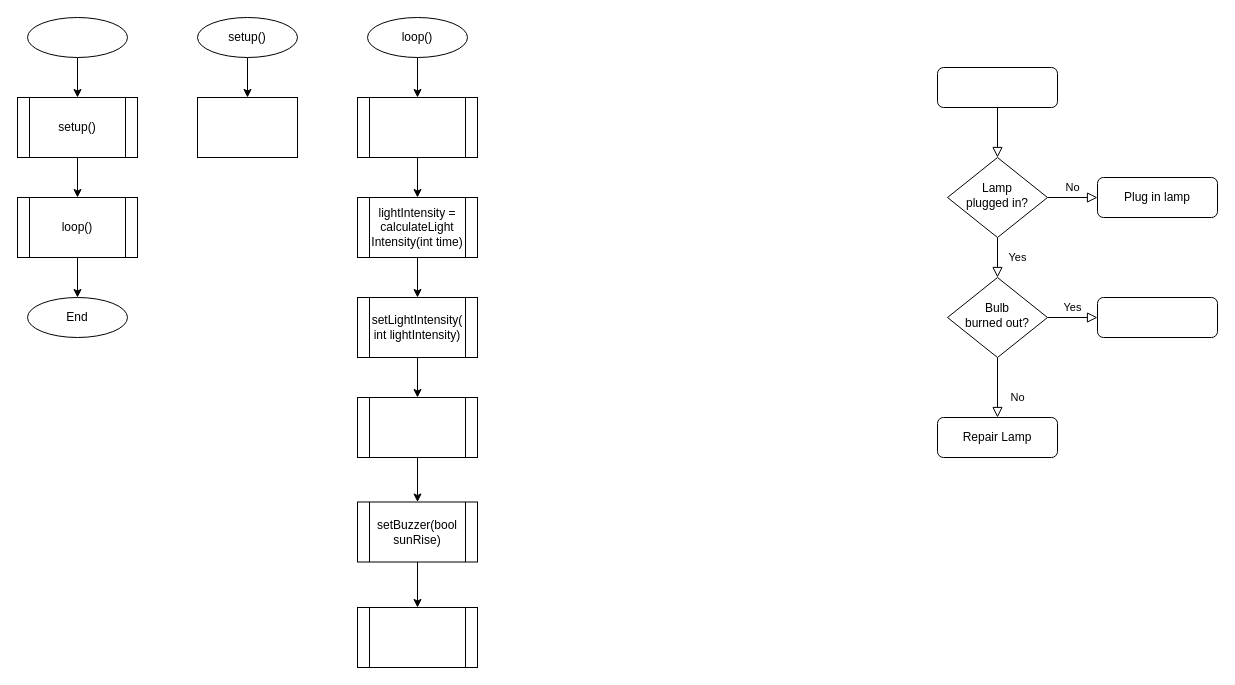
Image size: 1235x685. Some labels were removed from this diagram. Each missing label, with the centre of its shape:
"Lamp doesn't work" goes at point (997, 87).
"Replace Bulb" goes at point (1157, 317).
"sleep()" goes at point (417, 637).
"Start" goes at point (77, 37).
"sunRise = isSunRise( int time)" goes at point (417, 427).
"time = getTime()" goes at point (417, 127).
